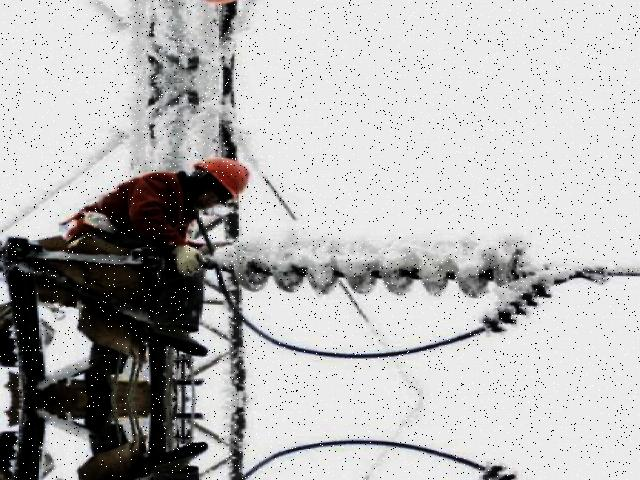Helmet: (188, 153, 256, 200)
